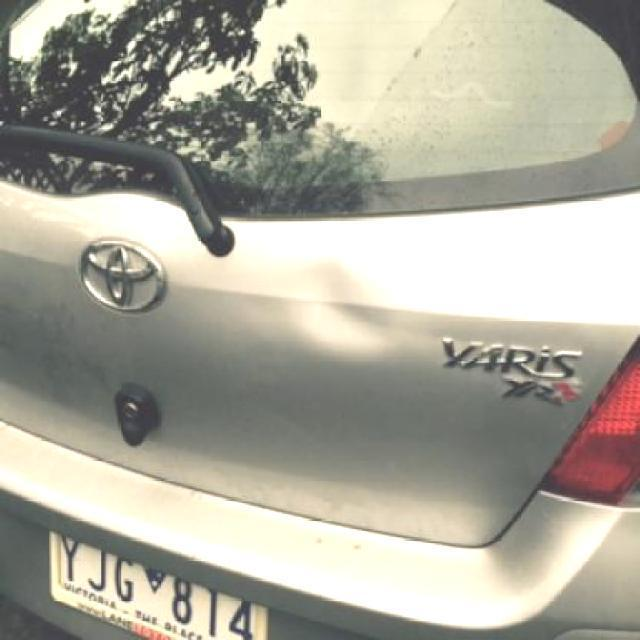minor: (292, 260, 405, 361)
